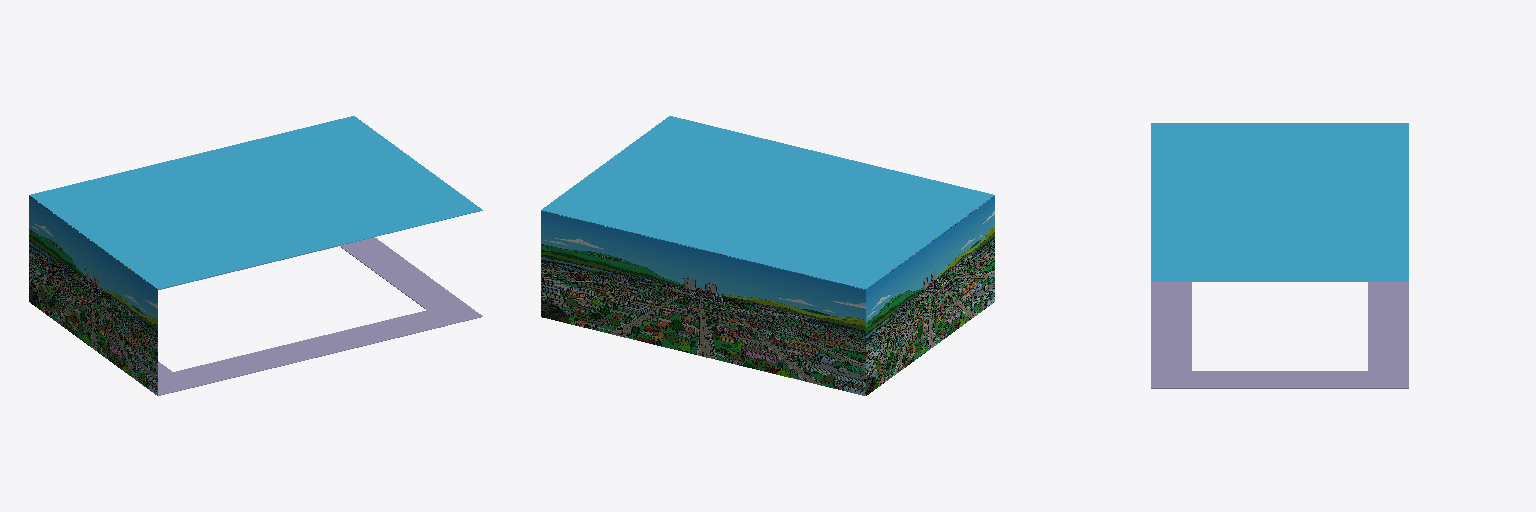
The picture shows the model from 3 angles: view 1: azimuth 30°, elevation 25°; view 2: azimuth 150°, elevation 25°; view 3: azimuth 270°, elevation 25°; orthographic projection.
Visible parts, largest first — view 1: Box196, Box194, Box190, Box192, Box193; view 2: Box196, Box195, Box194; view 3: Box196, Box192, Box190, Box191.
Part boxes in pixels (bbox=[...]): Box196: bbox=[29, 116, 482, 289]; Box194: bbox=[29, 196, 157, 395]; Box190: bbox=[174, 310, 447, 387]; Box192: bbox=[340, 237, 482, 324]; Box193: bbox=[158, 361, 193, 395]; Box196: bbox=[541, 116, 994, 289]; Box195: bbox=[541, 211, 865, 395]; Box194: bbox=[866, 196, 994, 395]; Box196: bbox=[1151, 123, 1408, 281]; Box192: bbox=[1151, 371, 1408, 388]; Box190: bbox=[1151, 282, 1191, 370]; Box191: bbox=[1368, 282, 1408, 370].
Size of the model in its own units: 640 by 201 by 441.
3 materials, 3 textured.